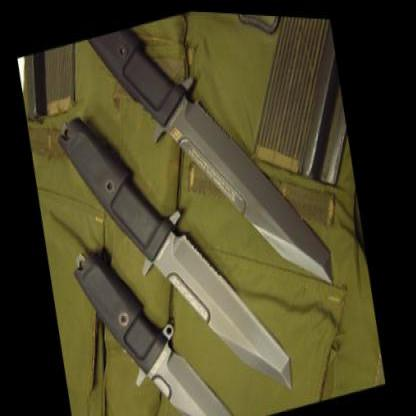knife: (164, 59, 344, 325), (149, 200, 303, 415), (142, 324, 252, 415)
